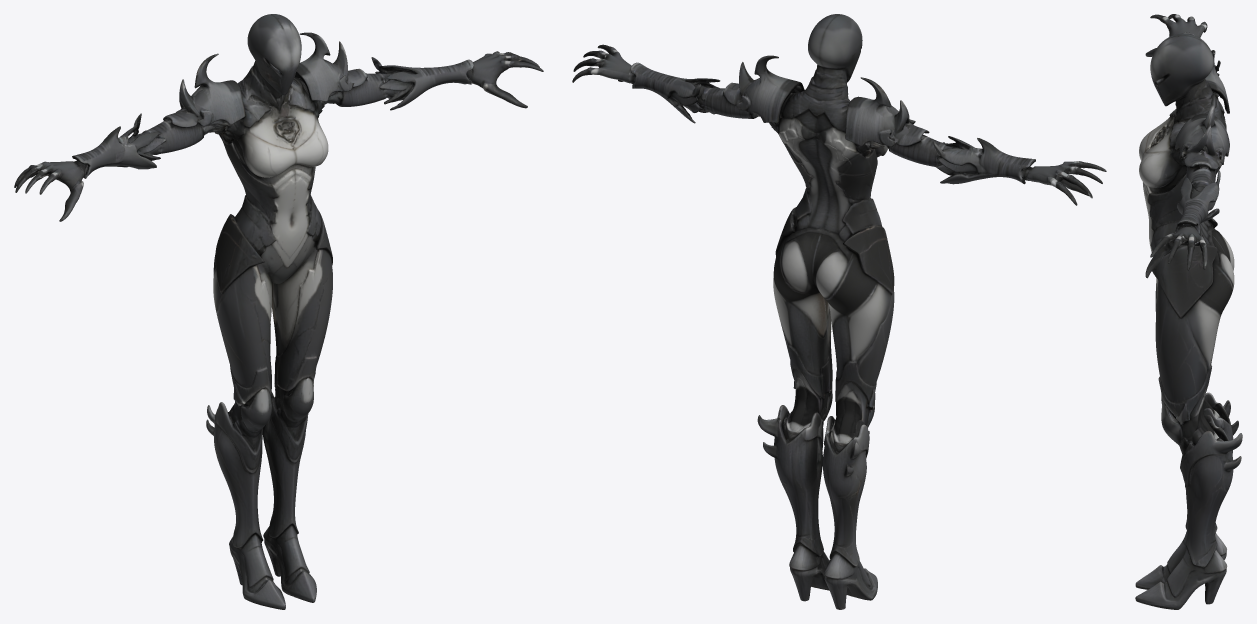
Rendered from Female_Cyber_Stalker_0121040056_texture.fbx.
3 views of the same model, side by side, from view 1: azimuth 30°, elevation 25°; view 2: azimuth 150°, elevation 25°; view 3: azimuth 270°, elevation 25° (orthographic). The views are drawn at different scales.
Parts seen in each view (by area): view 1: Mesh_0; view 2: Mesh_0; view 3: Mesh_0.
Boxes of the visible parts, box(x1,y1,x2,y2) form: Mesh_0: box(14, 14, 543, 609); Mesh_0: box(572, 14, 1106, 609); Mesh_0: box(1135, 14, 1242, 609).
Bounding box in the file's own units: 179 × 190 × 33.01.
Materials: 1 (1 with a texture image).
